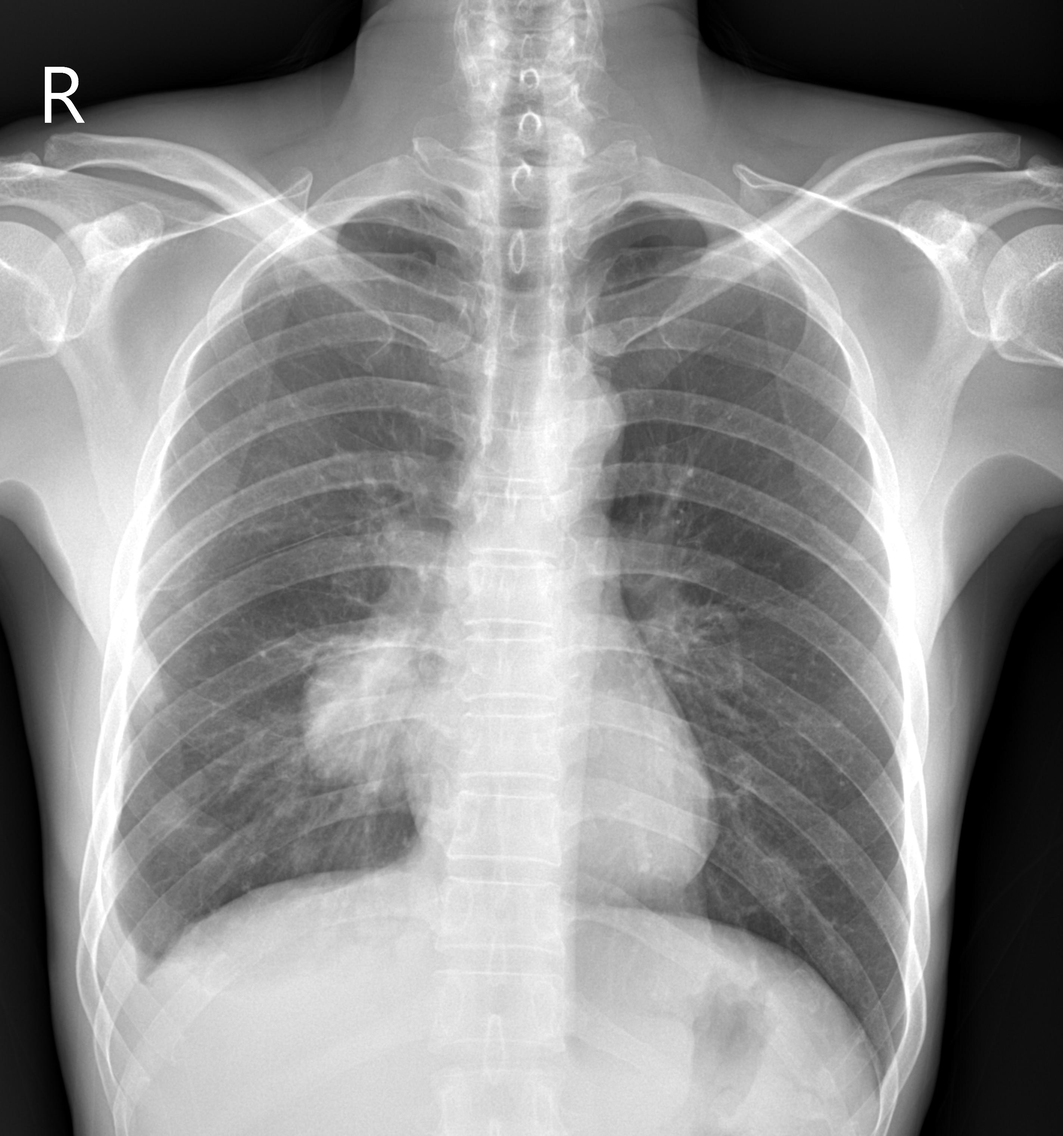Pleural thickening: (86, 884, 168, 1043), (110, 622, 162, 755)
